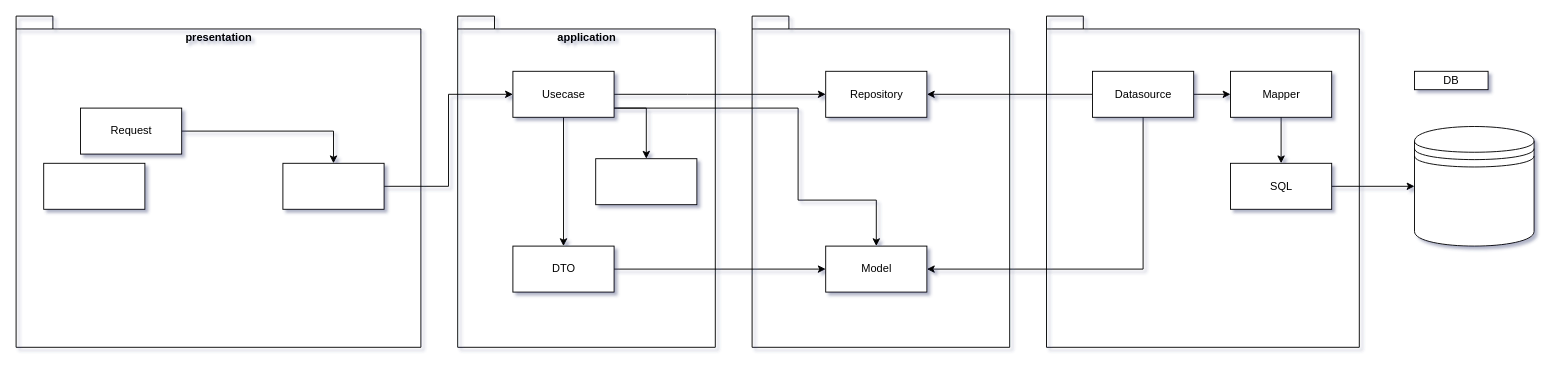
Some shapes in this 1556 by 369 pixel diagram are drawn without their labels. The shapes that lost their labels are listed below. From the top down, each one's box as (x1, y1, x2, y2) in pixels, then its label:
(43, 162, 145, 209): View
(282, 162, 384, 209): Controller
(595, 158, 697, 205): Form
(751, 15, 1010, 347): domain
(1046, 15, 1359, 347): infrastructure
